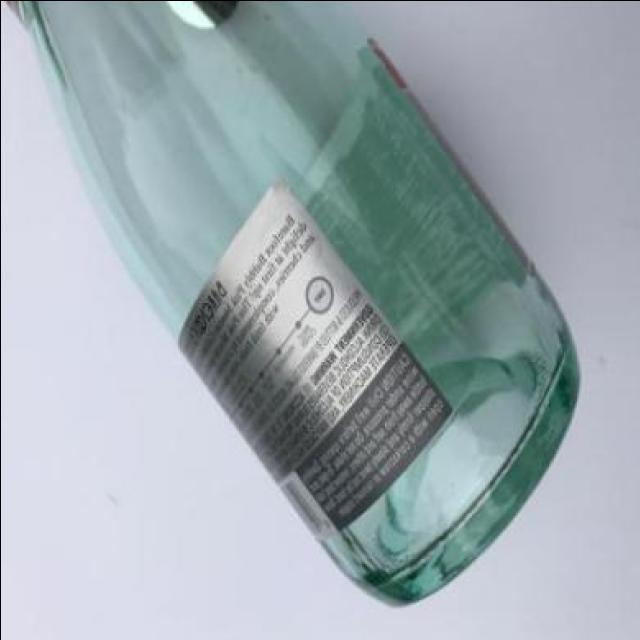kaca: (0, 1, 579, 606)
